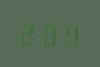nine: (59, 20, 78, 47)
two: (18, 18, 37, 46)
zero: (39, 19, 58, 47)
